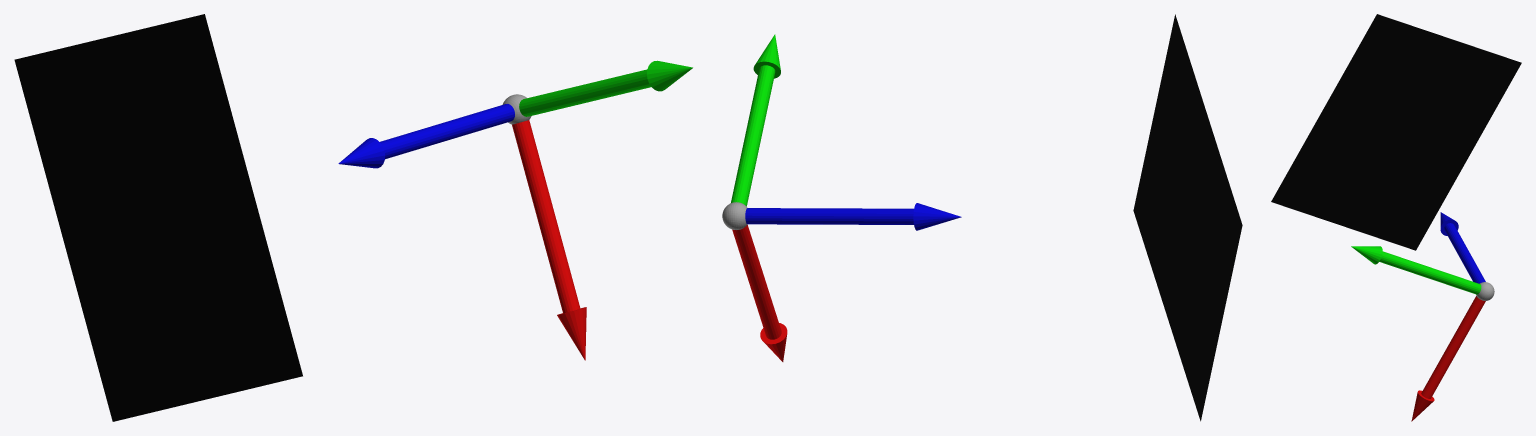
3 renders of one model, left to right at view 1: azimuth 30°, elevation 25°; view 2: azimuth 150°, elevation 25°; view 3: azimuth 270°, elevation 25°, orthographic. The views are drawn at different scales.
Bounding box in the file's own units: 0.2987 × 0.2476 × 0.1969.
